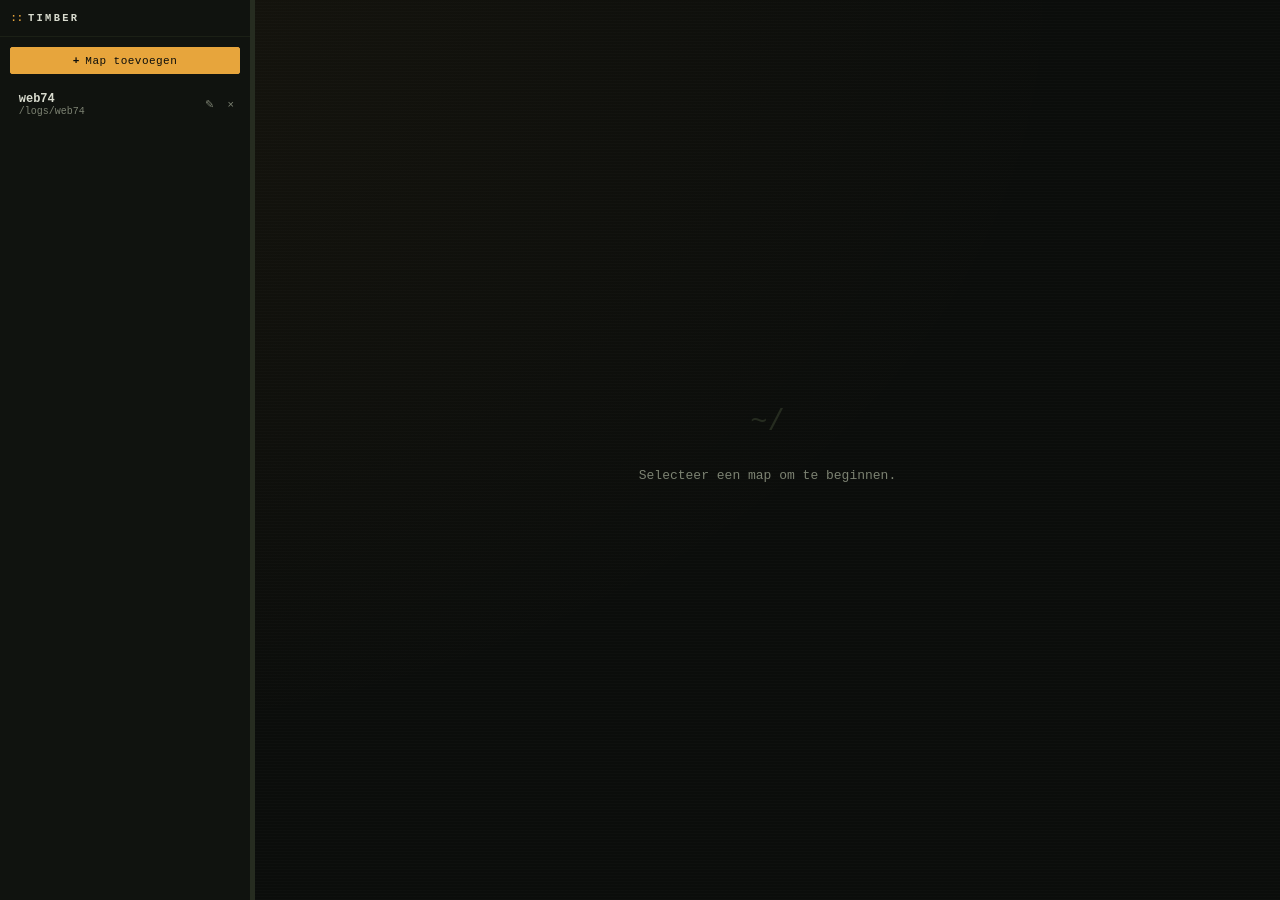
Scenario: App › removing the active folder returns to the empty state
Click the text "/logs/web74". click: (52, 111)
box: [19,106,85,117]
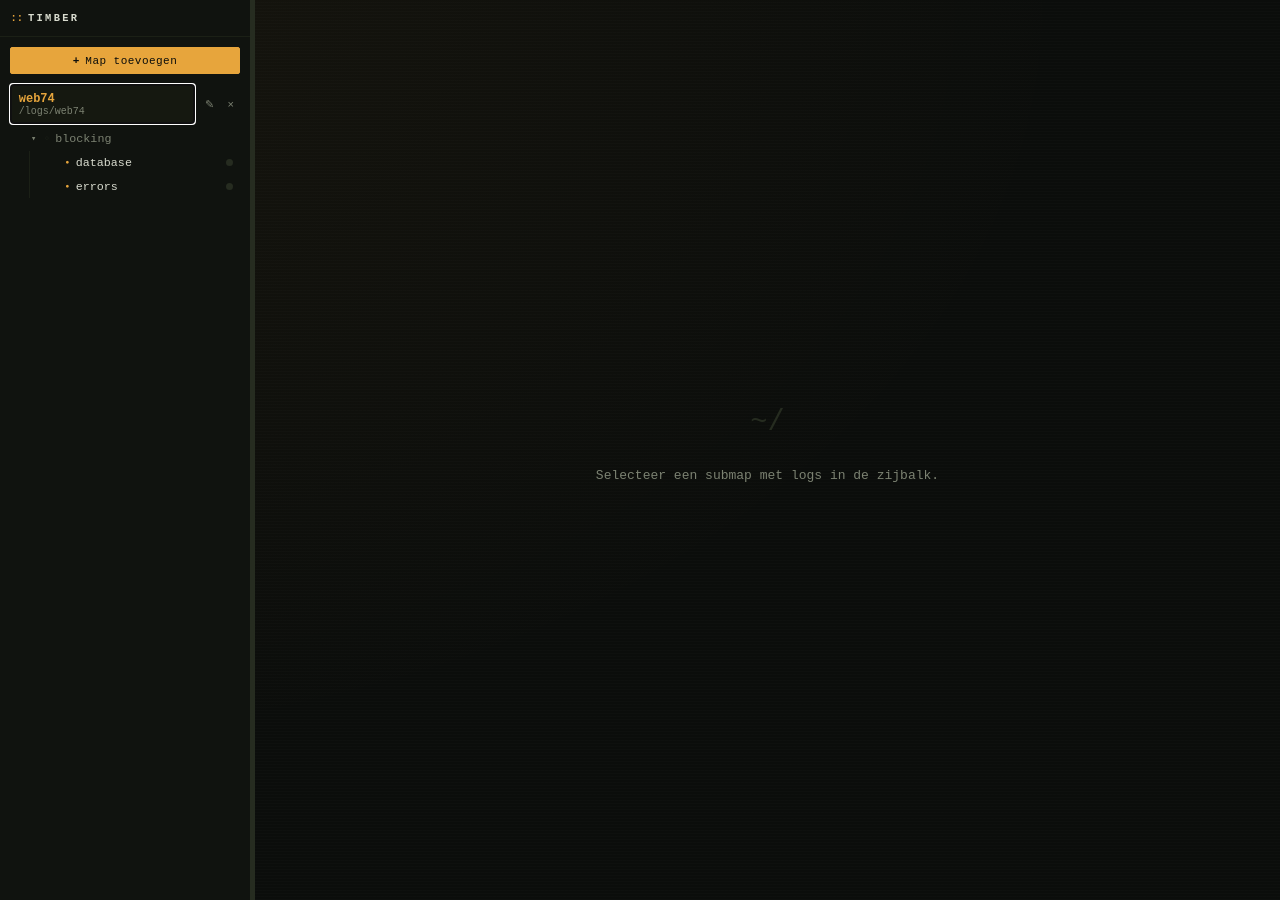
Now the text "database" is shown, box [76,156,132,170]
Click the button named "web74 verwijderen". click: (230, 104)
box: [220,84,240,124]
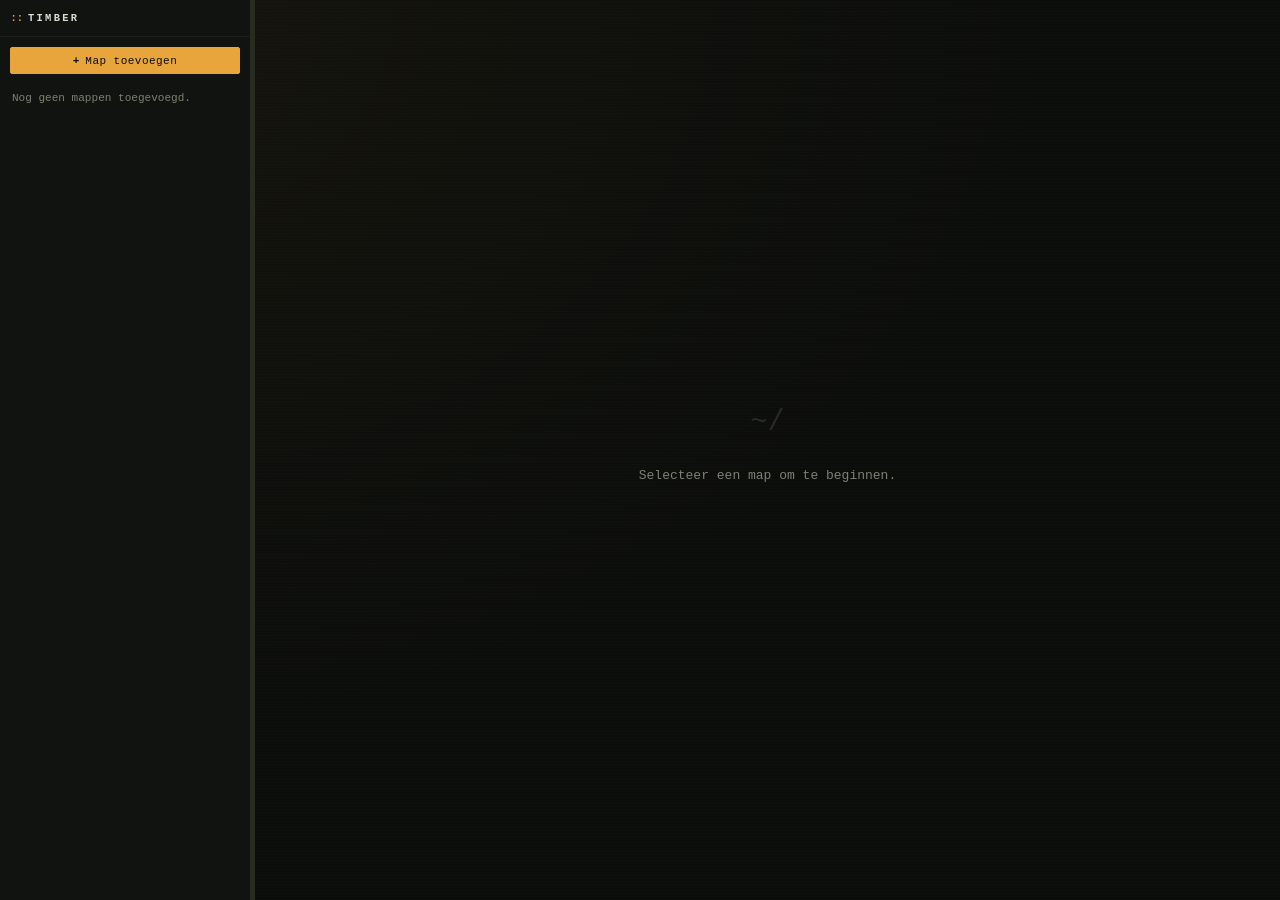
Now the text "Selecteer een map om te beginnen." is shown, box [639,466,896,485]
